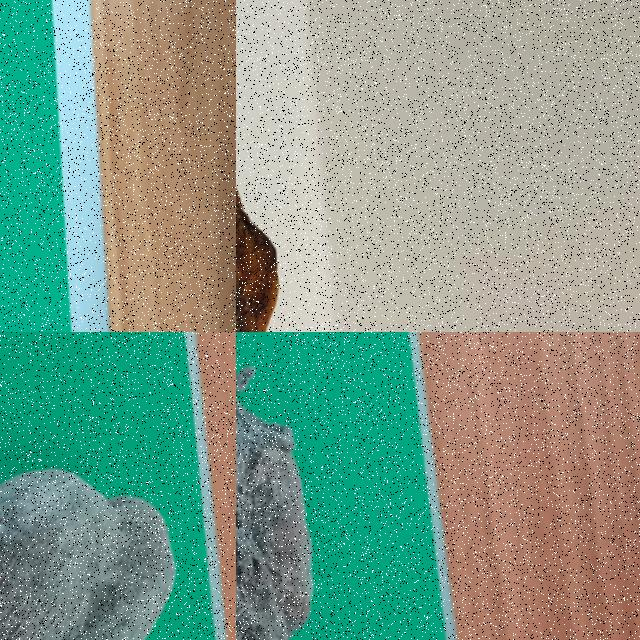Agglomerated_cocoabeans: (236, 332, 431, 639), (0, 396, 235, 639)
Flat_cocoabeans: (236, 43, 384, 331)
